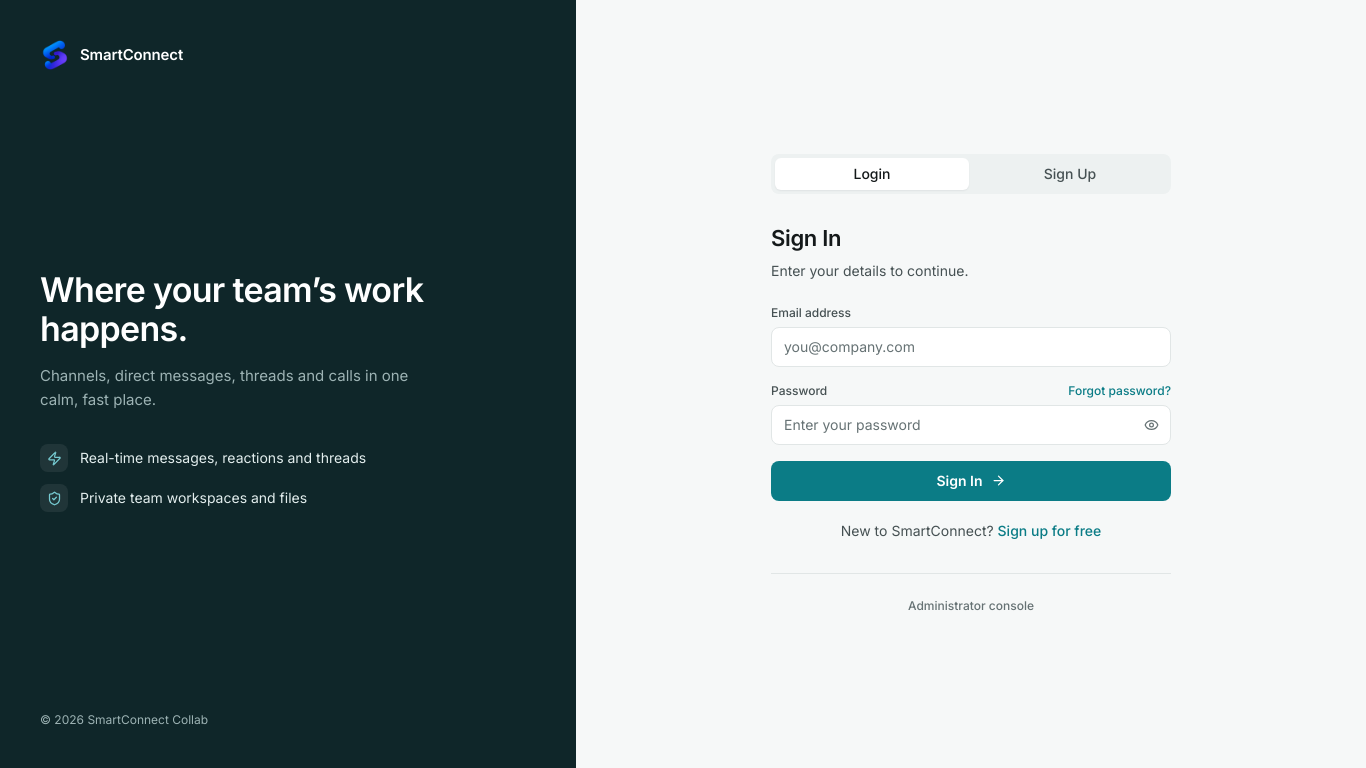
Scenario: QA — sign-in form › L1: a refused sign-in is shown once, inline — no duplicate toast
This screenshot has width=1366, height=768.
In the field labelled "Email address": (971, 346) top-left (771, 326), bottom-right (1171, 366), type "a@b.co"
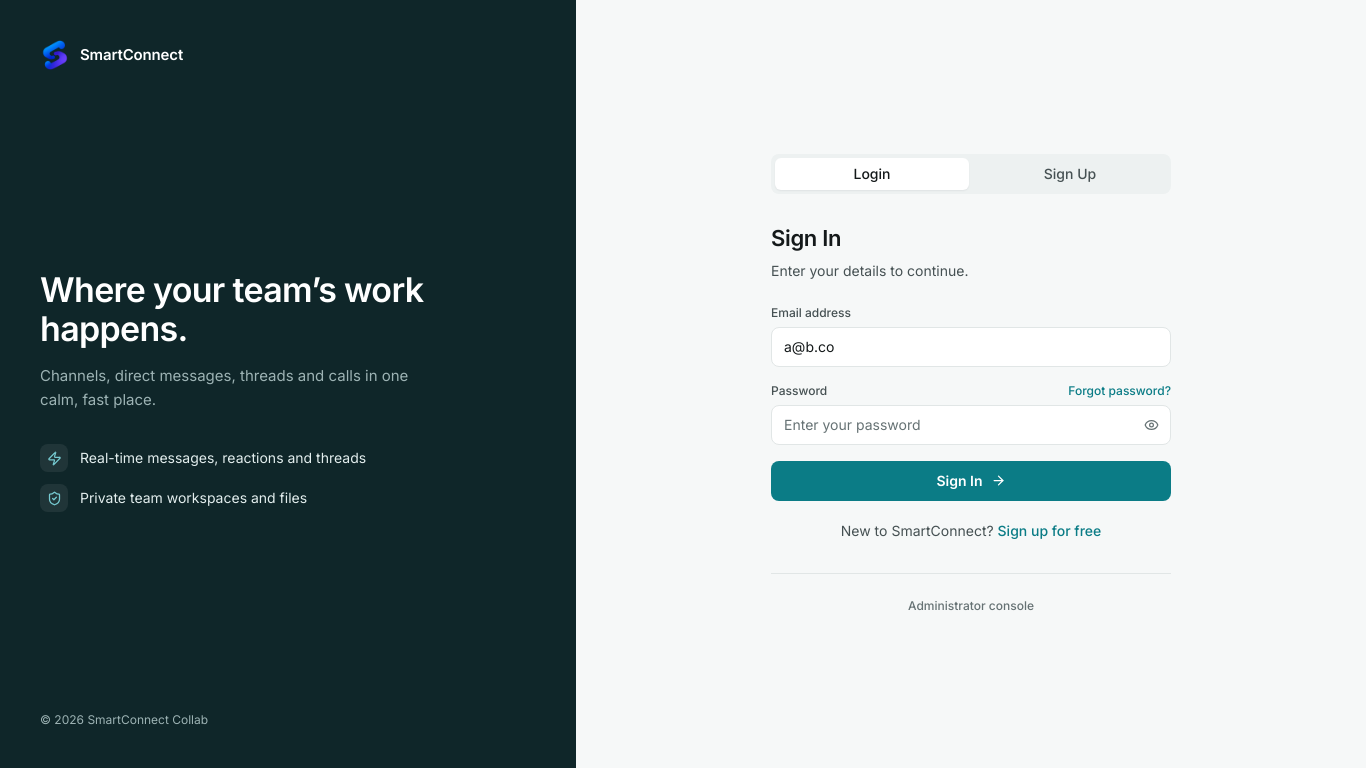
In the password field labelled "Password": (971, 424) top-left (771, 404), bottom-right (1171, 444), type "wrong-pass"
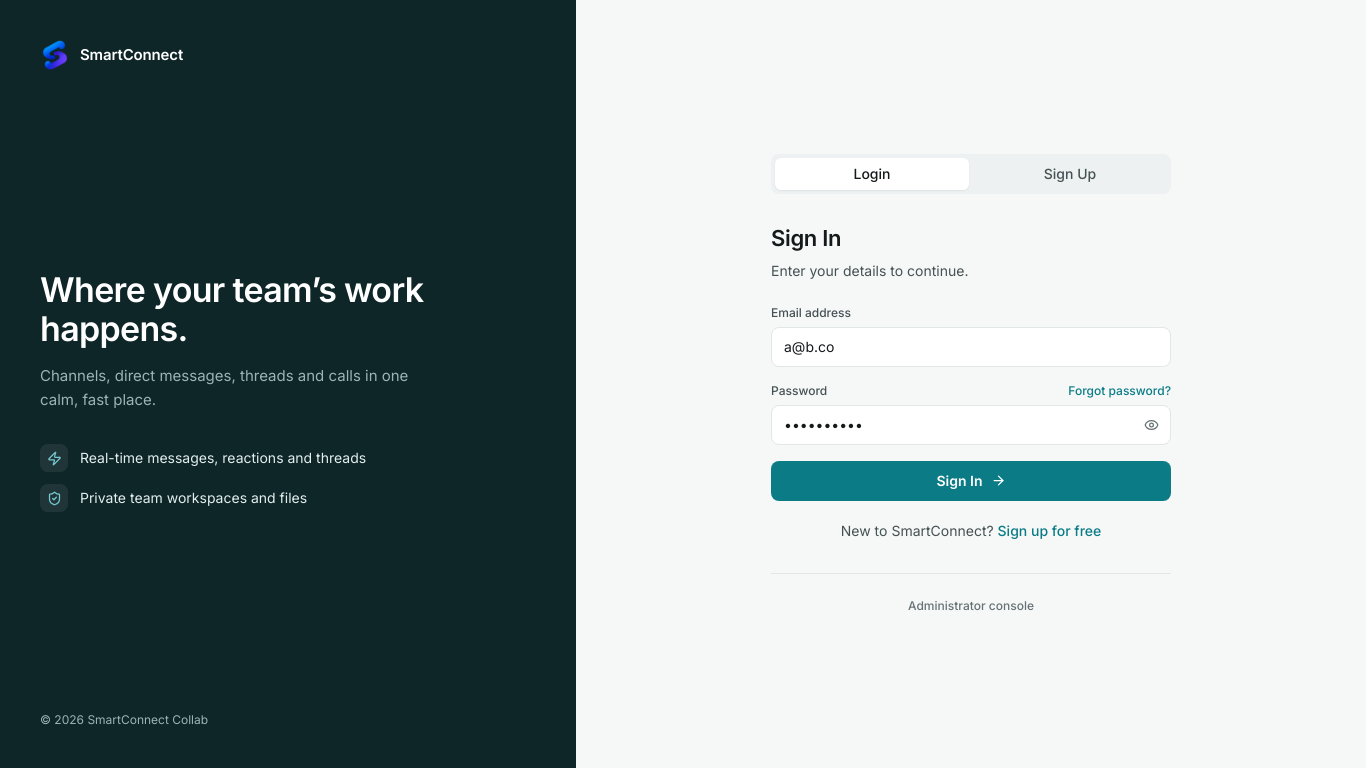
Click the button "Sign In": (971, 480) top-left (771, 460), bottom-right (1171, 500)
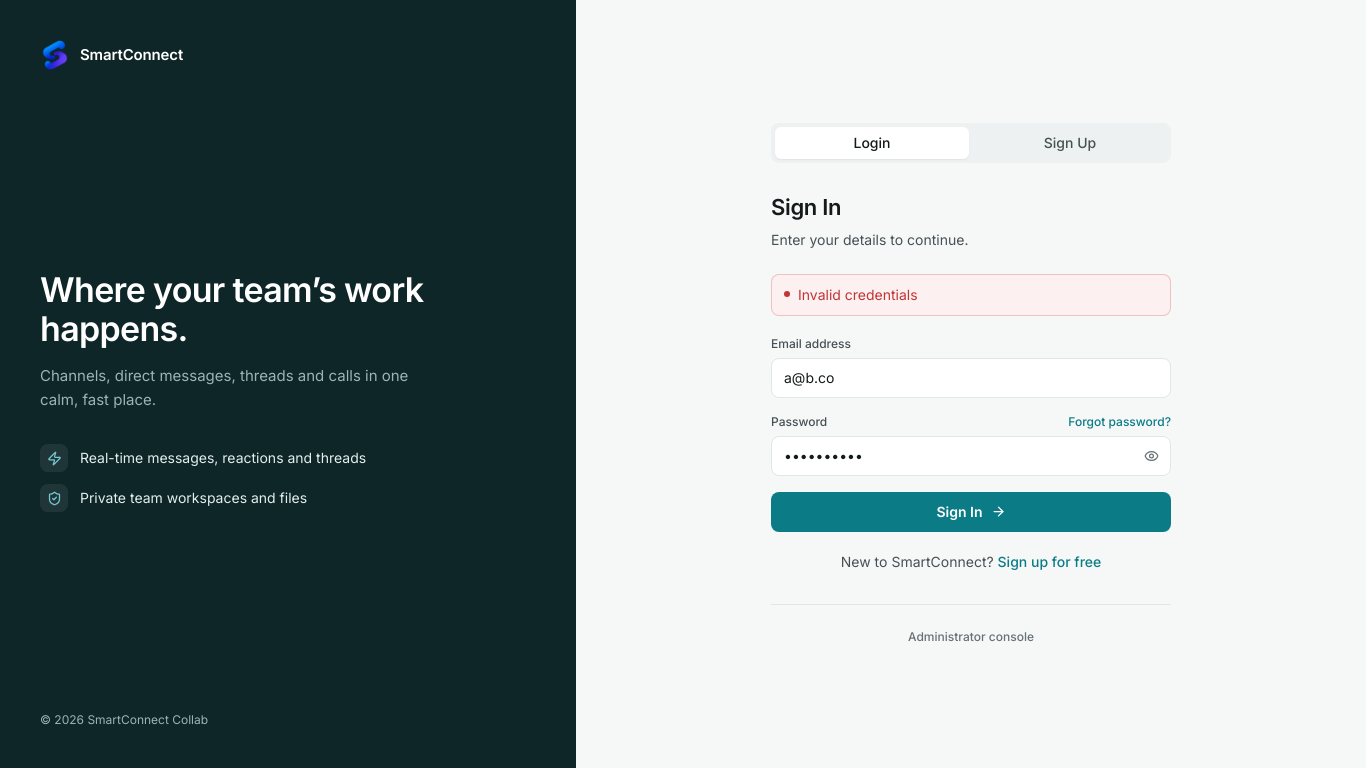
Now the message reads "Invalid credentials", box top-left (798, 286), bottom-right (918, 302)
